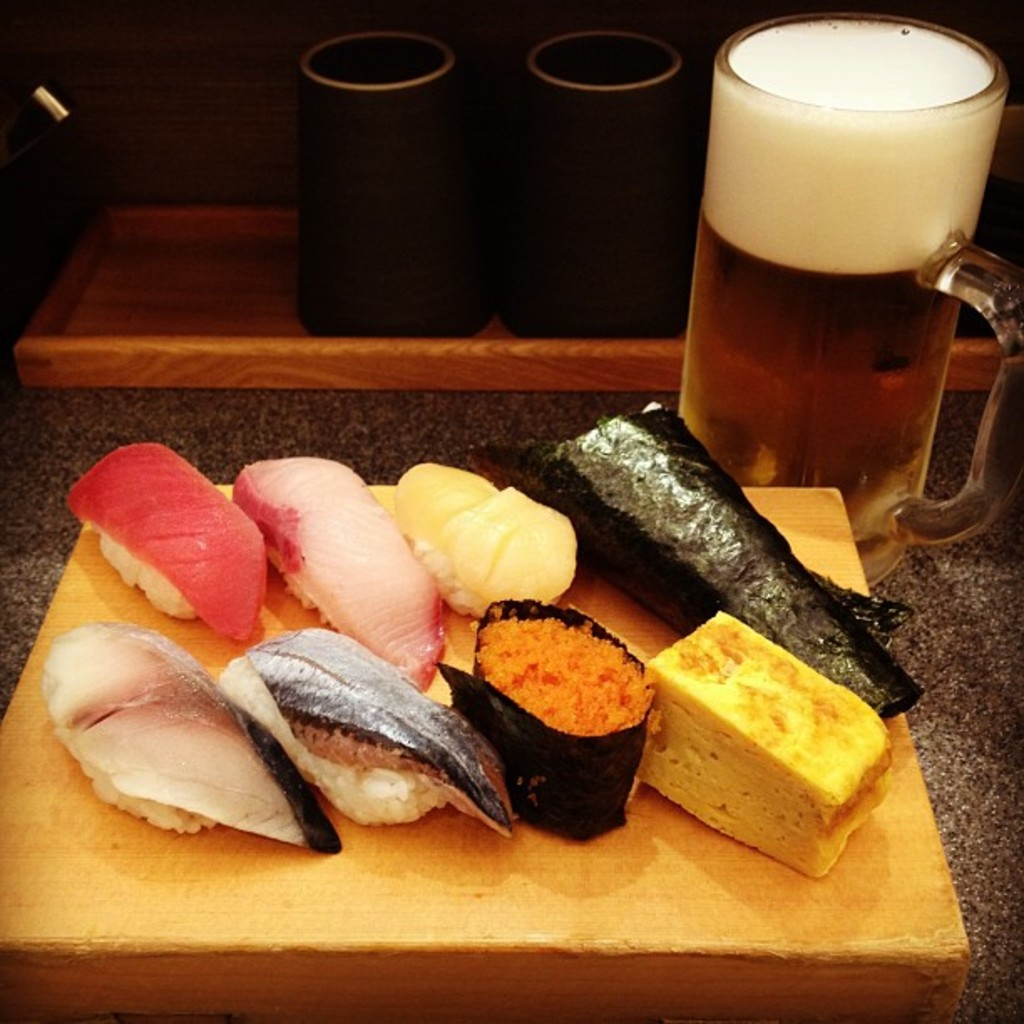Beer: (691, 0, 1022, 620)
